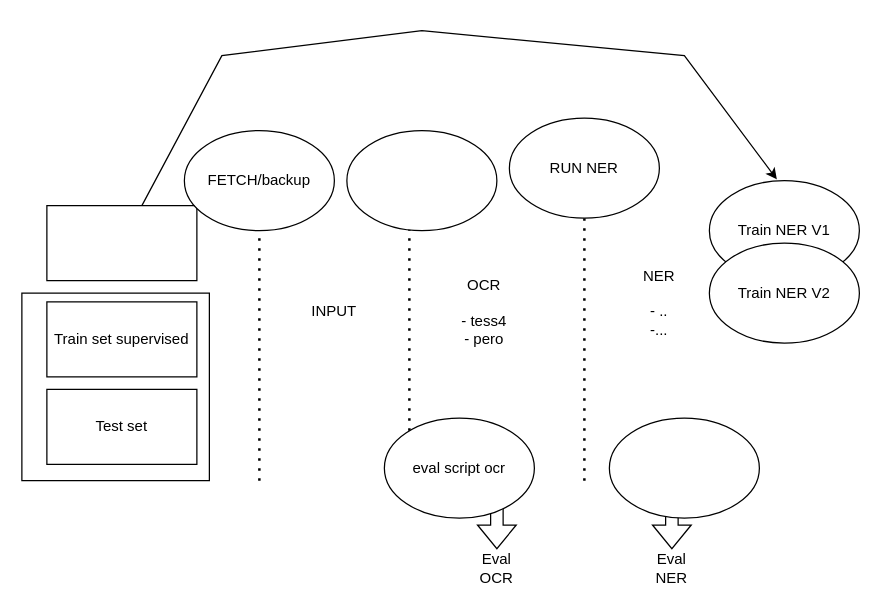
This 881x609 diagram has some shape labels left out. The box of each missing label's shape, as (x1, y1, x2, y2) in pixels:
eval script NER: (608, 417, 759, 518)
RUN OCR: (346, 129, 497, 231)
Train set self supervised: (46, 204, 197, 281)
